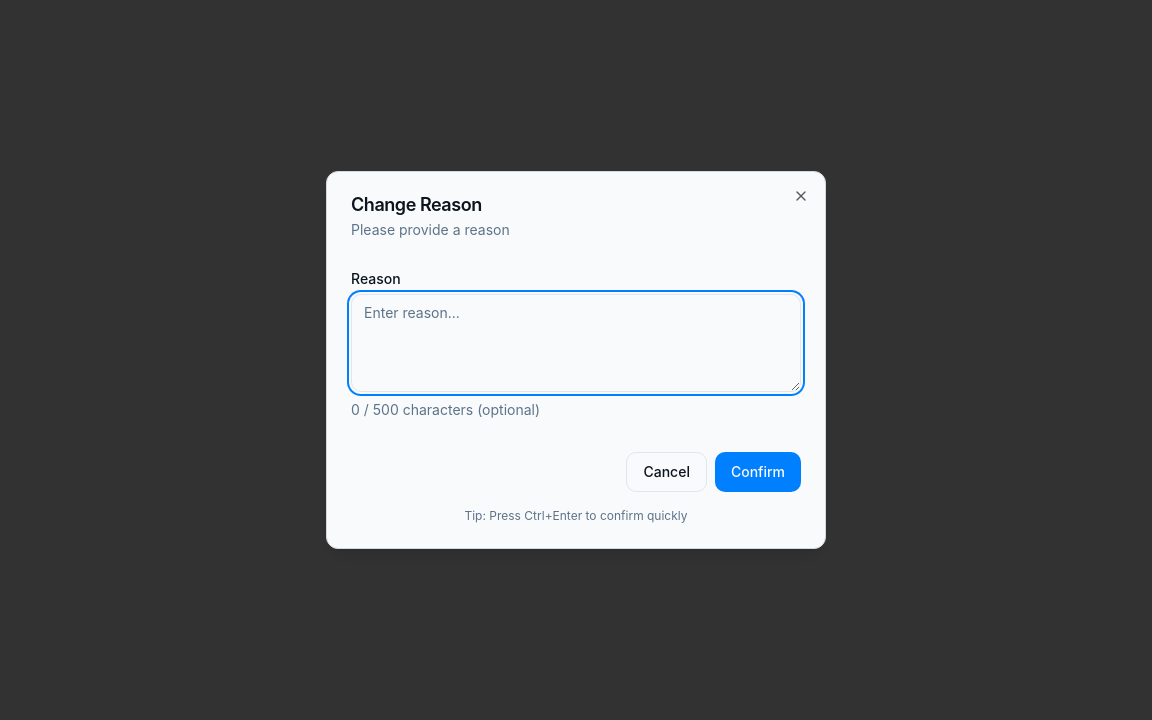
Test: AuditReasonDialog › shows character count
The width and height of the screenshot is (1152, 720).
expect the text "0 / 500 characters (optional)" is shown: met, box [351,401,540,418]
In the text box with placeholder "Enter reason...": (576, 343) [351,294,801,392], type "Test"
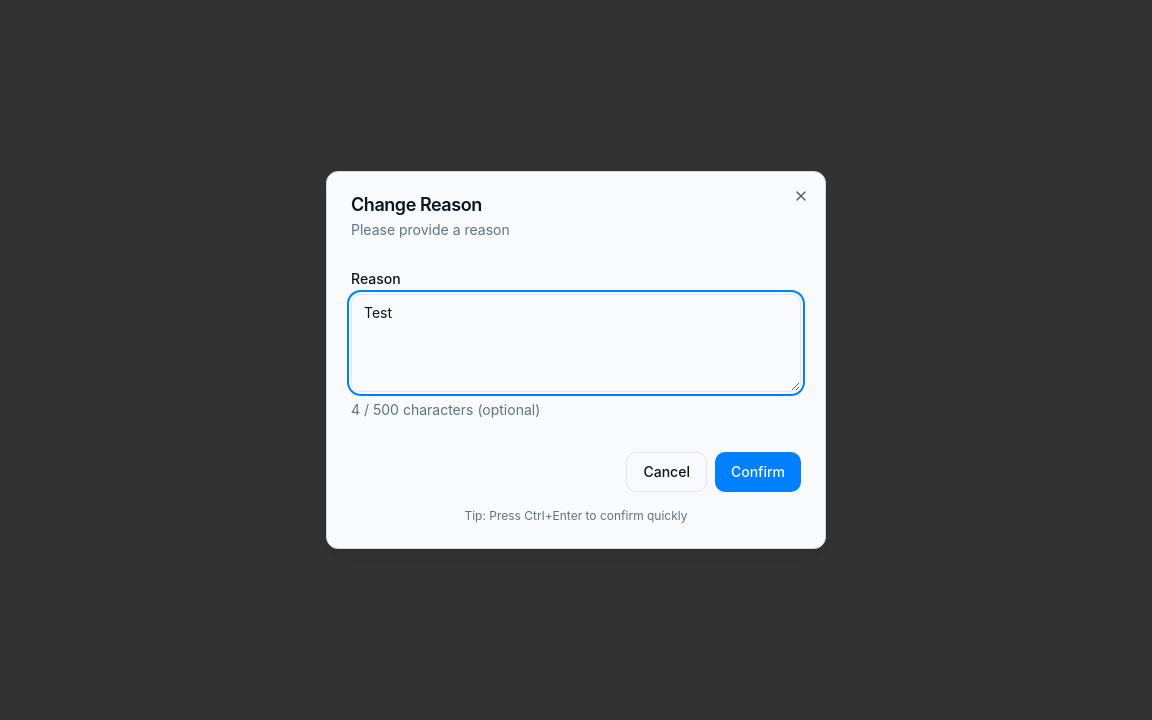
expect the text "4 / 500 characters (optional)" is shown: met, box [351,401,540,418]
